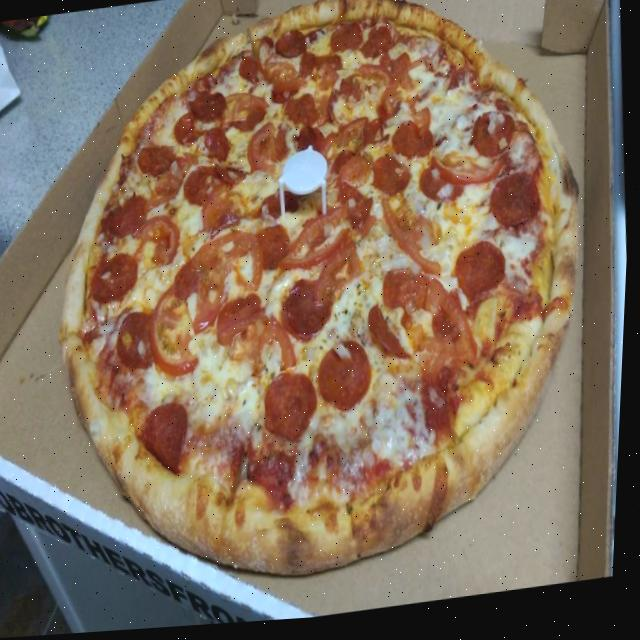pepperoni: (317, 342, 379, 419), (138, 404, 197, 477), (264, 379, 323, 446), (487, 177, 549, 240), (367, 303, 415, 376), (281, 283, 337, 343), (457, 249, 511, 302), (90, 252, 142, 306), (216, 298, 267, 350), (120, 312, 162, 374), (472, 118, 518, 169), (418, 167, 467, 213), (504, 135, 545, 189), (371, 155, 414, 203), (256, 224, 294, 276), (339, 184, 377, 234), (108, 197, 150, 241), (392, 125, 436, 167), (380, 273, 417, 317), (284, 97, 324, 134), (190, 93, 229, 128), (184, 170, 219, 209), (138, 143, 179, 176), (328, 24, 365, 58), (263, 194, 302, 224), (174, 263, 205, 300), (275, 32, 308, 64), (174, 113, 201, 151), (205, 129, 231, 167), (297, 128, 328, 159), (216, 161, 247, 191), (238, 57, 266, 89), (362, 33, 395, 60), (273, 128, 294, 166), (211, 215, 242, 240), (380, 57, 411, 80), (339, 81, 364, 107), (328, 94, 345, 130), (330, 154, 356, 177), (447, 75, 470, 101), (317, 61, 345, 81), (370, 123, 390, 151), (232, 119, 265, 135), (269, 91, 299, 108), (302, 29, 325, 48), (300, 56, 317, 80), (380, 109, 403, 126), (261, 38, 275, 56)
pizza: (29, 0, 617, 616)
tomatoes: (411, 272, 484, 379), (380, 194, 447, 290), (149, 293, 208, 380), (276, 212, 352, 277), (206, 233, 270, 300), (430, 149, 510, 194), (191, 248, 231, 338), (314, 249, 366, 310), (254, 319, 300, 382), (139, 216, 185, 269), (246, 126, 278, 182), (325, 123, 372, 160), (219, 95, 272, 126), (201, 187, 234, 233), (313, 68, 341, 122), (265, 63, 306, 97), (359, 64, 393, 103), (408, 99, 434, 143), (151, 175, 182, 206), (339, 164, 372, 191), (390, 79, 417, 96), (178, 153, 199, 171), (381, 92, 399, 110)
